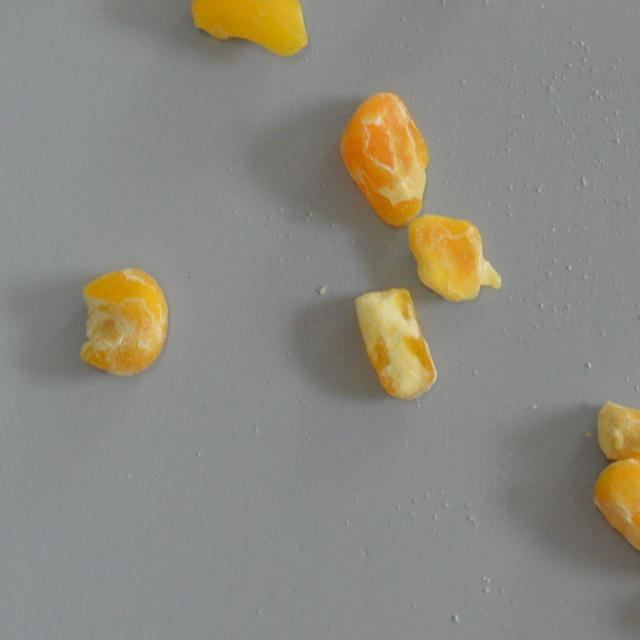pelicula: (336, 90, 431, 227), (76, 267, 170, 376), (352, 286, 436, 400), (406, 213, 498, 302), (188, 0, 310, 57), (590, 458, 640, 574), (592, 400, 640, 470)
